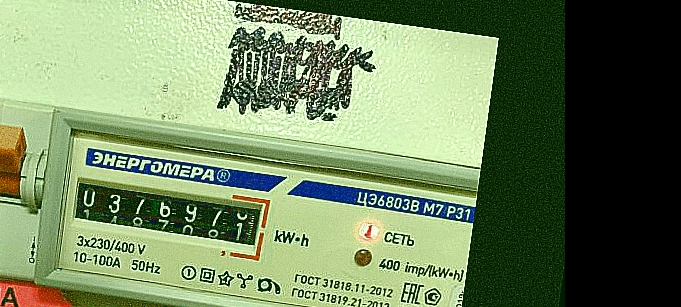0: (79, 184, 98, 207)
1: (232, 219, 245, 242)
3: (105, 190, 122, 214)
6: (157, 195, 173, 217)
7: (131, 190, 147, 216), (207, 203, 223, 227)
9: (182, 199, 198, 223)
screen: (63, 169, 273, 264)
